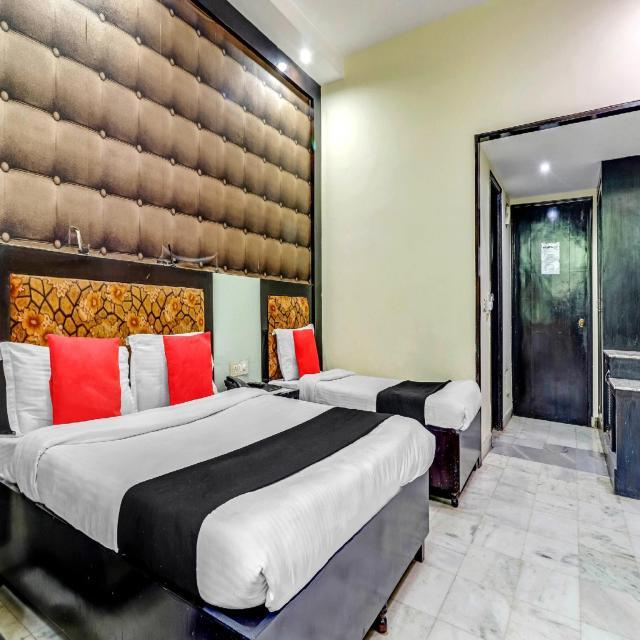bed: (0, 242, 436, 638), (264, 292, 482, 507)
